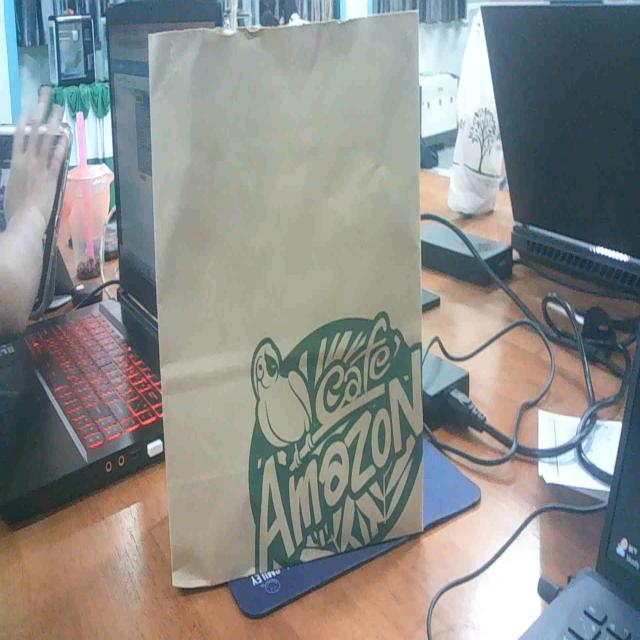bag: (145, 21, 420, 590)
